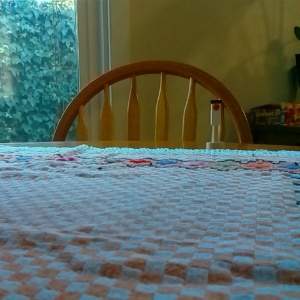traffic light red: (205, 98, 227, 151)
